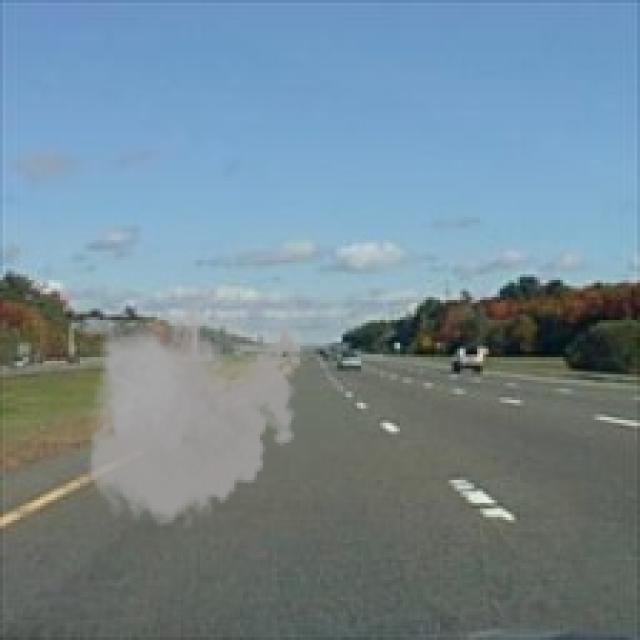smoke: (80, 286, 309, 534)
